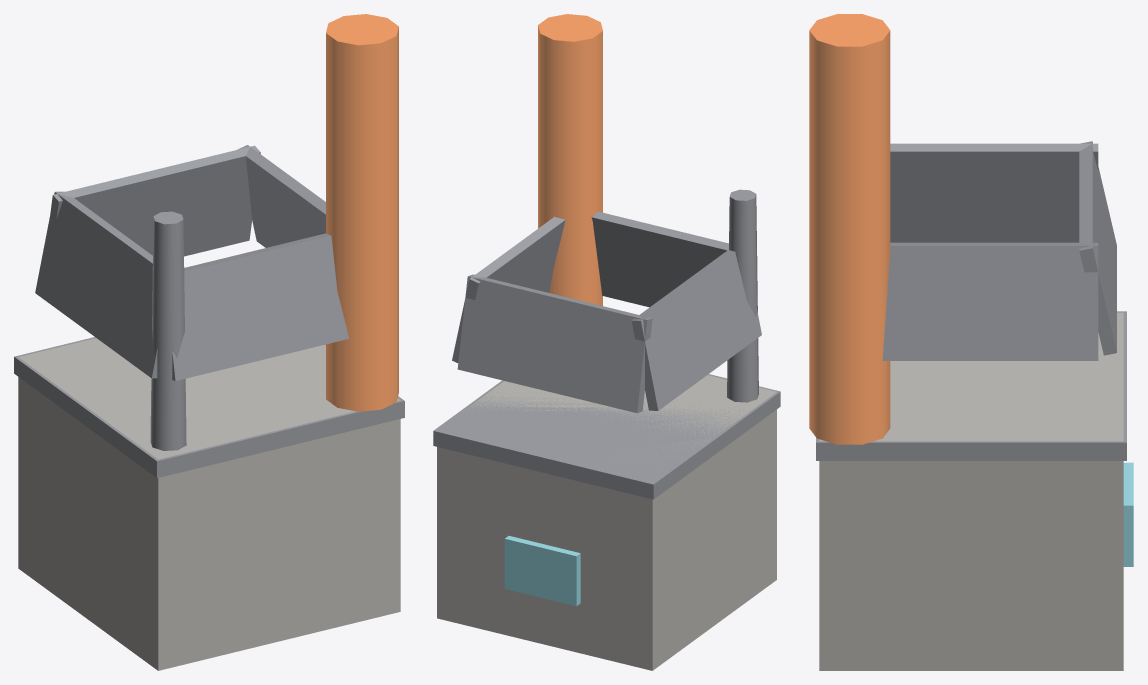
File: build_refinery.glb
3 views of the same model, side by side, from view 1: azimuth 30°, elevation 25°; view 2: azimuth 150°, elevation 25°; view 3: azimuth 270°, elevation 25° (orthographic). The views are drawn at different scales.
Visible parts, largest first — view 1: Baked; view 2: Baked; view 3: Baked.
Boxes of the visible parts, x1,y1,x2,y2 form: Baked: (14,14,404,670); Baked: (433,14,780,670); Baked: (809,14,1133,670).
Bounding box in the file's own units: 0.9341 × 2.05 × 0.96.
